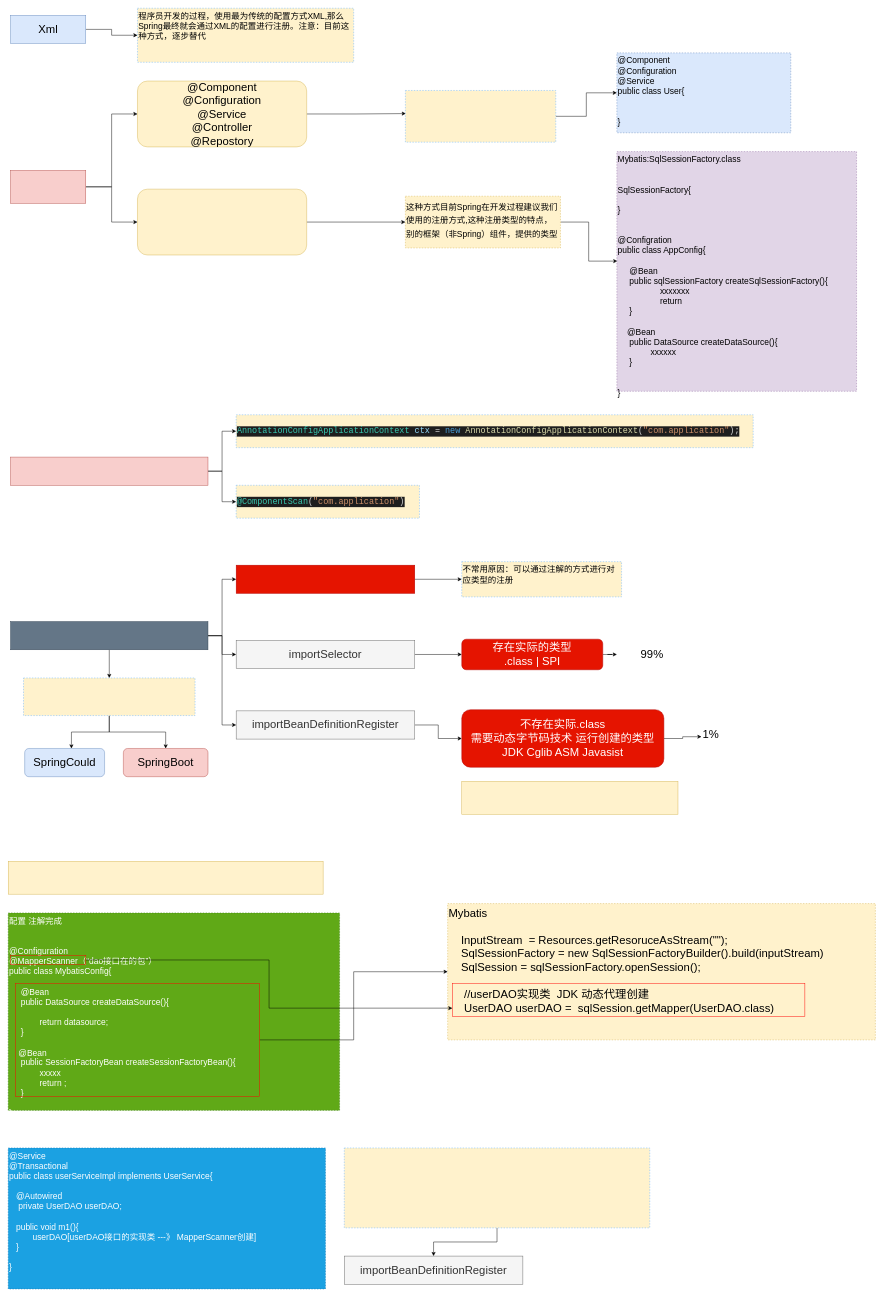
Image size: 884x1297. Some labels were removed from this diagram. The centre of each missing label's shape, as x and y in pixels:
@Bean: (x=222, y=222)
@Import: (x=109, y=635)
ClassPathBeanDefinitionScanner: (x=109, y=471)
importBeanDefinitionRegister 案例 （Spring 与 Mybatis）: (x=165, y=877)
import普通java类（没有注解）: (x=325, y=579)
一般情况下使用Import注解，场景主要应用于框架的底层封装，避免暴露个用户细节: (x=109, y=697)
创建动态类型---> BD ---> Registry: (x=569, y=797)
完成注入 前提 Spring工厂 生产对象 ---> 对象注册 bd: (x=497, y=1188)
注解: (x=48, y=186)
这种方式目前Spring在开发过程建议我们使用的注册方式，这种注册类型的特点，程序员自己创建的类型。: (x=480, y=116)
